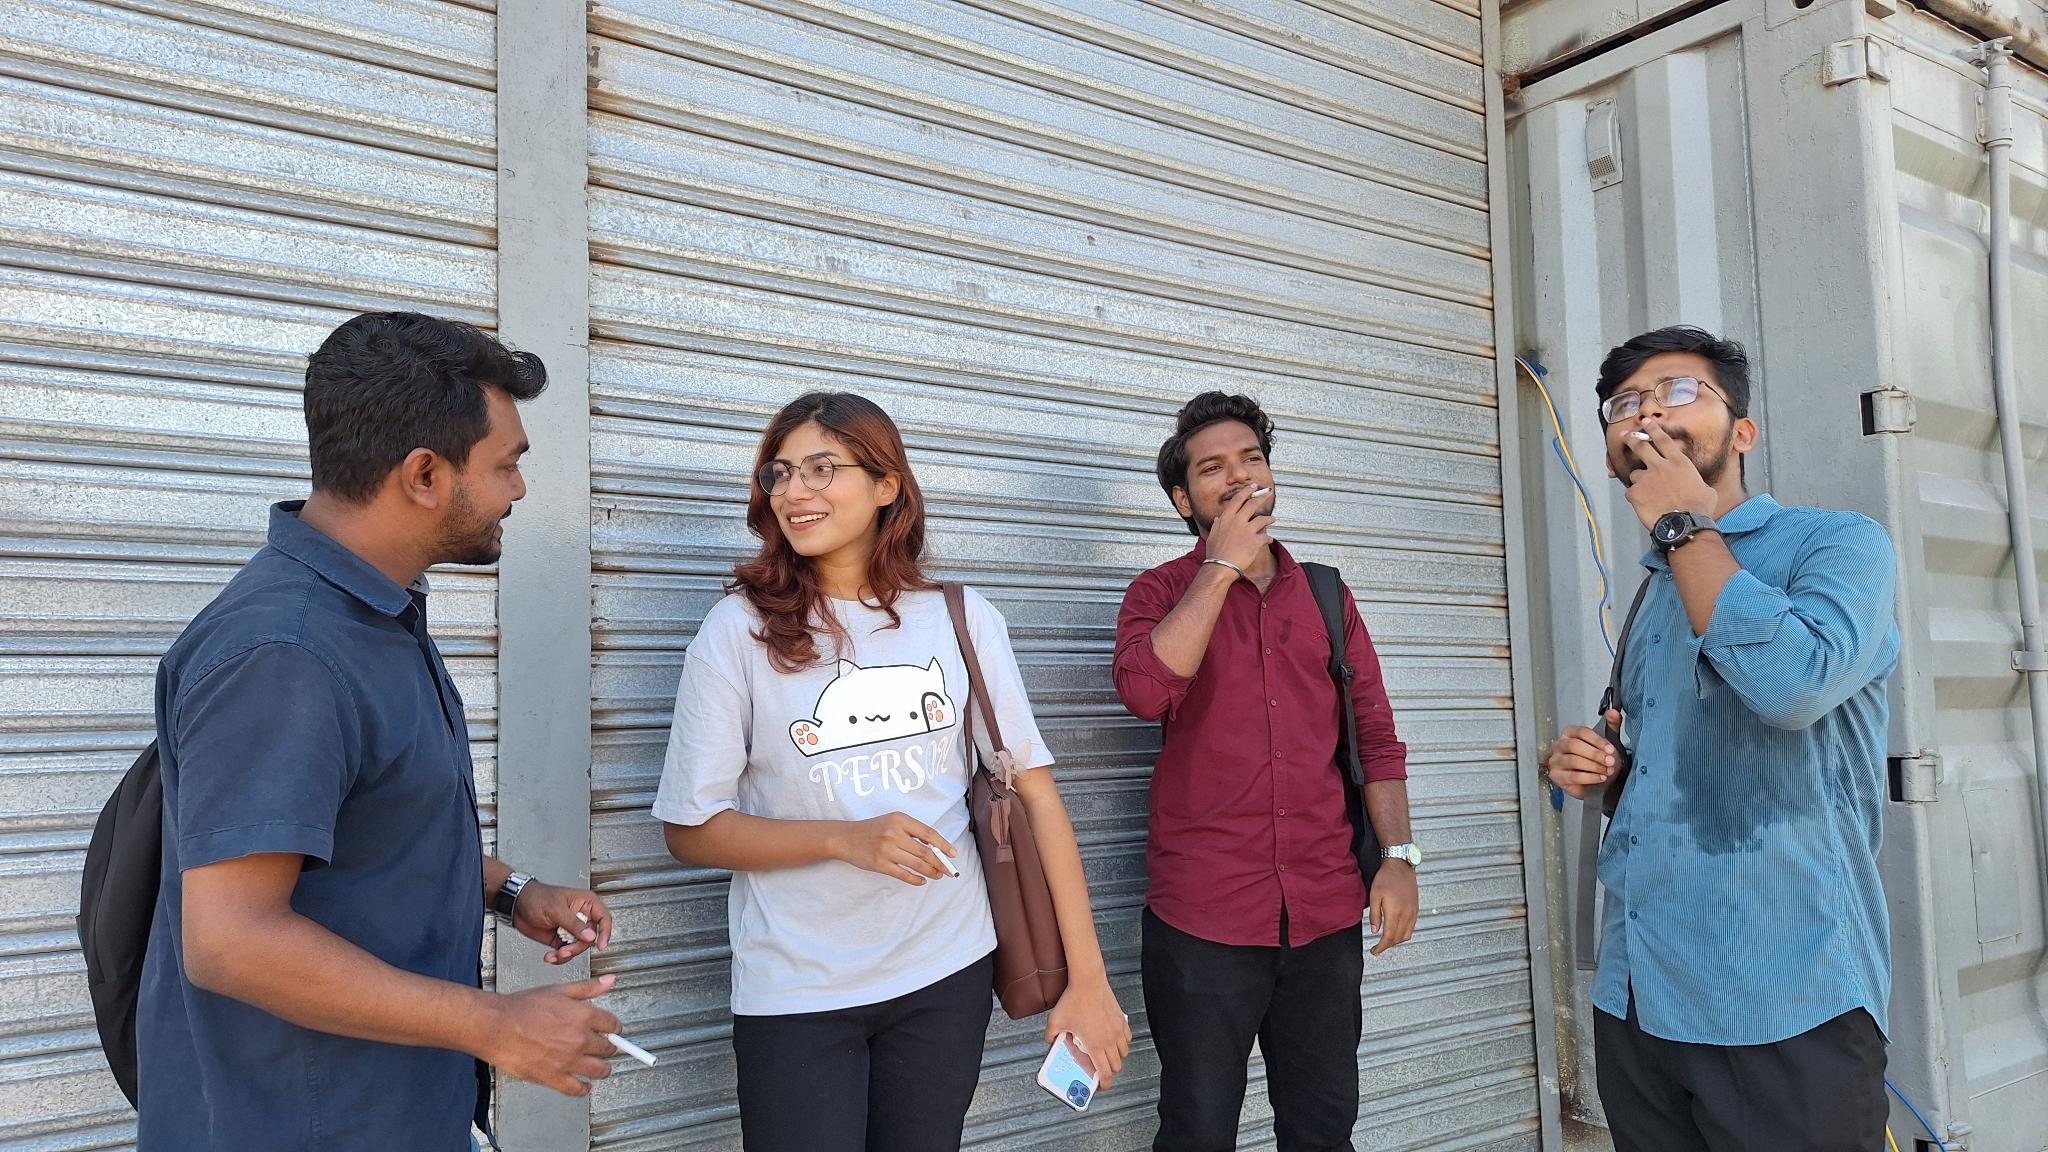cigarette: (594, 1027, 661, 1069), (927, 841, 964, 882), (1245, 485, 1274, 501), (1627, 430, 1654, 444)
smoker: (77, 307, 623, 1152), (648, 392, 1134, 1152), (1547, 326, 1900, 1152), (1110, 391, 1421, 1152)
